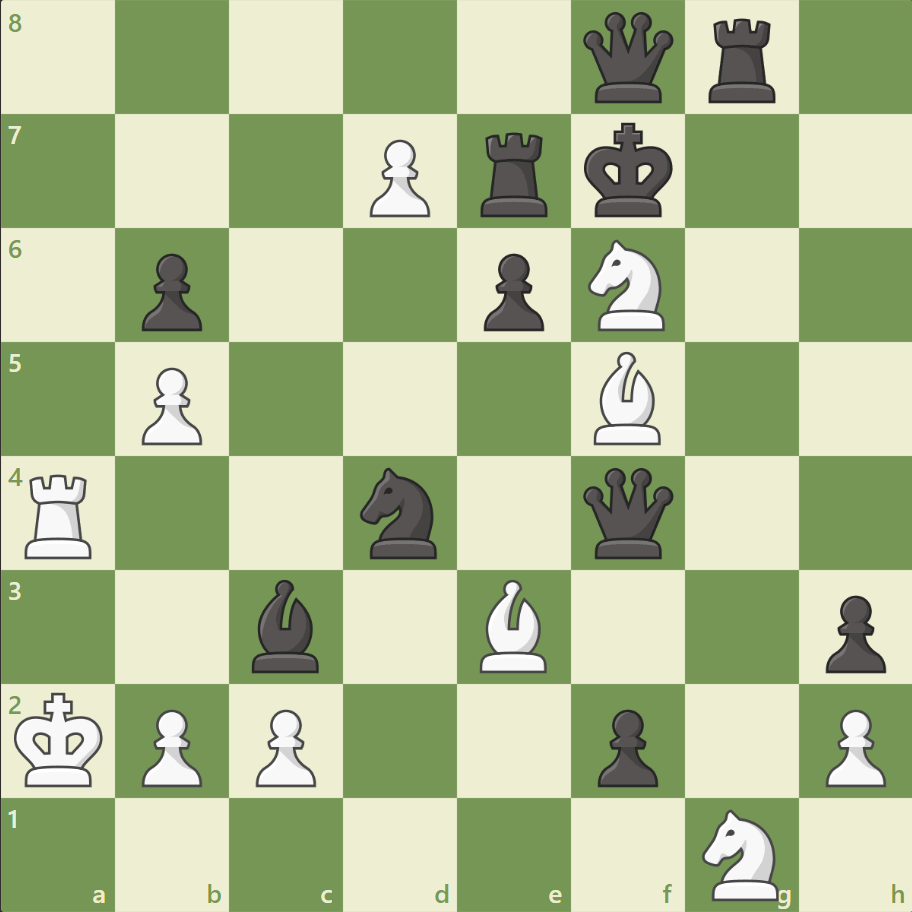B: (585, 347, 669, 449), (471, 574, 555, 676)
K: (11, 685, 111, 793)
N: (579, 234, 676, 337), (692, 802, 789, 904)
P: (133, 359, 208, 450), (133, 700, 208, 791), (247, 700, 322, 791), (361, 132, 435, 223), (815, 700, 889, 791)
R: (19, 466, 102, 563)
b: (244, 574, 328, 676)
k: (579, 117, 679, 225)
n: (351, 461, 449, 564)
p: (133, 246, 208, 337), (474, 246, 549, 337), (815, 586, 889, 677), (588, 700, 662, 791)
q: (578, 9, 677, 108), (578, 463, 677, 562)
r: (700, 12, 783, 109), (473, 125, 556, 222)
